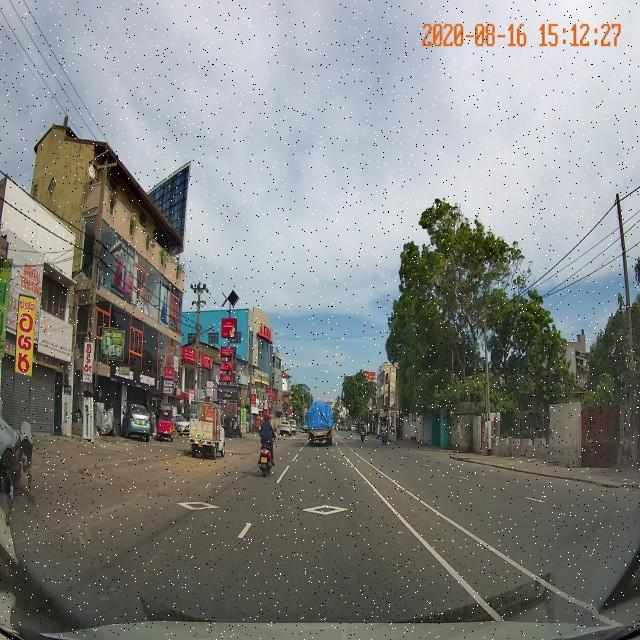diamond: (242, 492, 414, 524)
